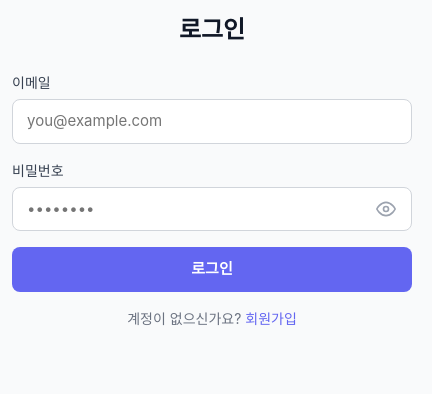
Test: LoginForm login flow › 로그인 실패 시 에러 메시지를 표시한다
Type "test@example.com" into the field labelled "이메일" at (212, 121), box [12,99,412,144]
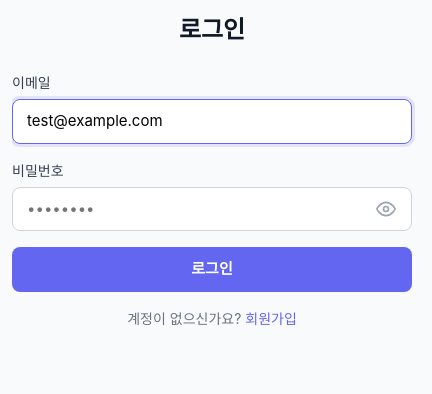
Type "wrong" into the password field labelled "비밀번호" at (212, 209), box [12,186,412,231]
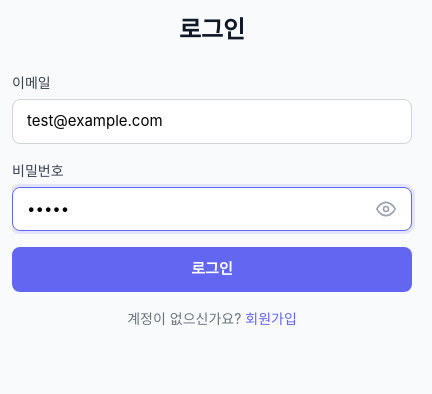
Click the button "로그인" at (212, 269), box [12,247,412,292]
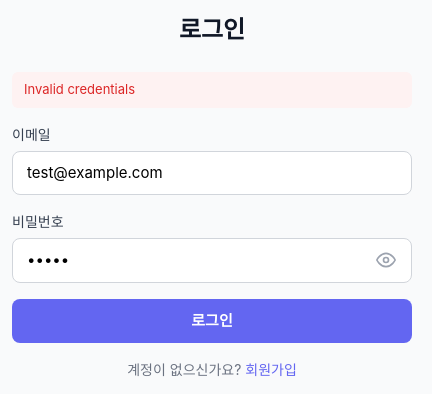
Expected: the text "Invalid credentials" is shown, [12,72,412,108]
